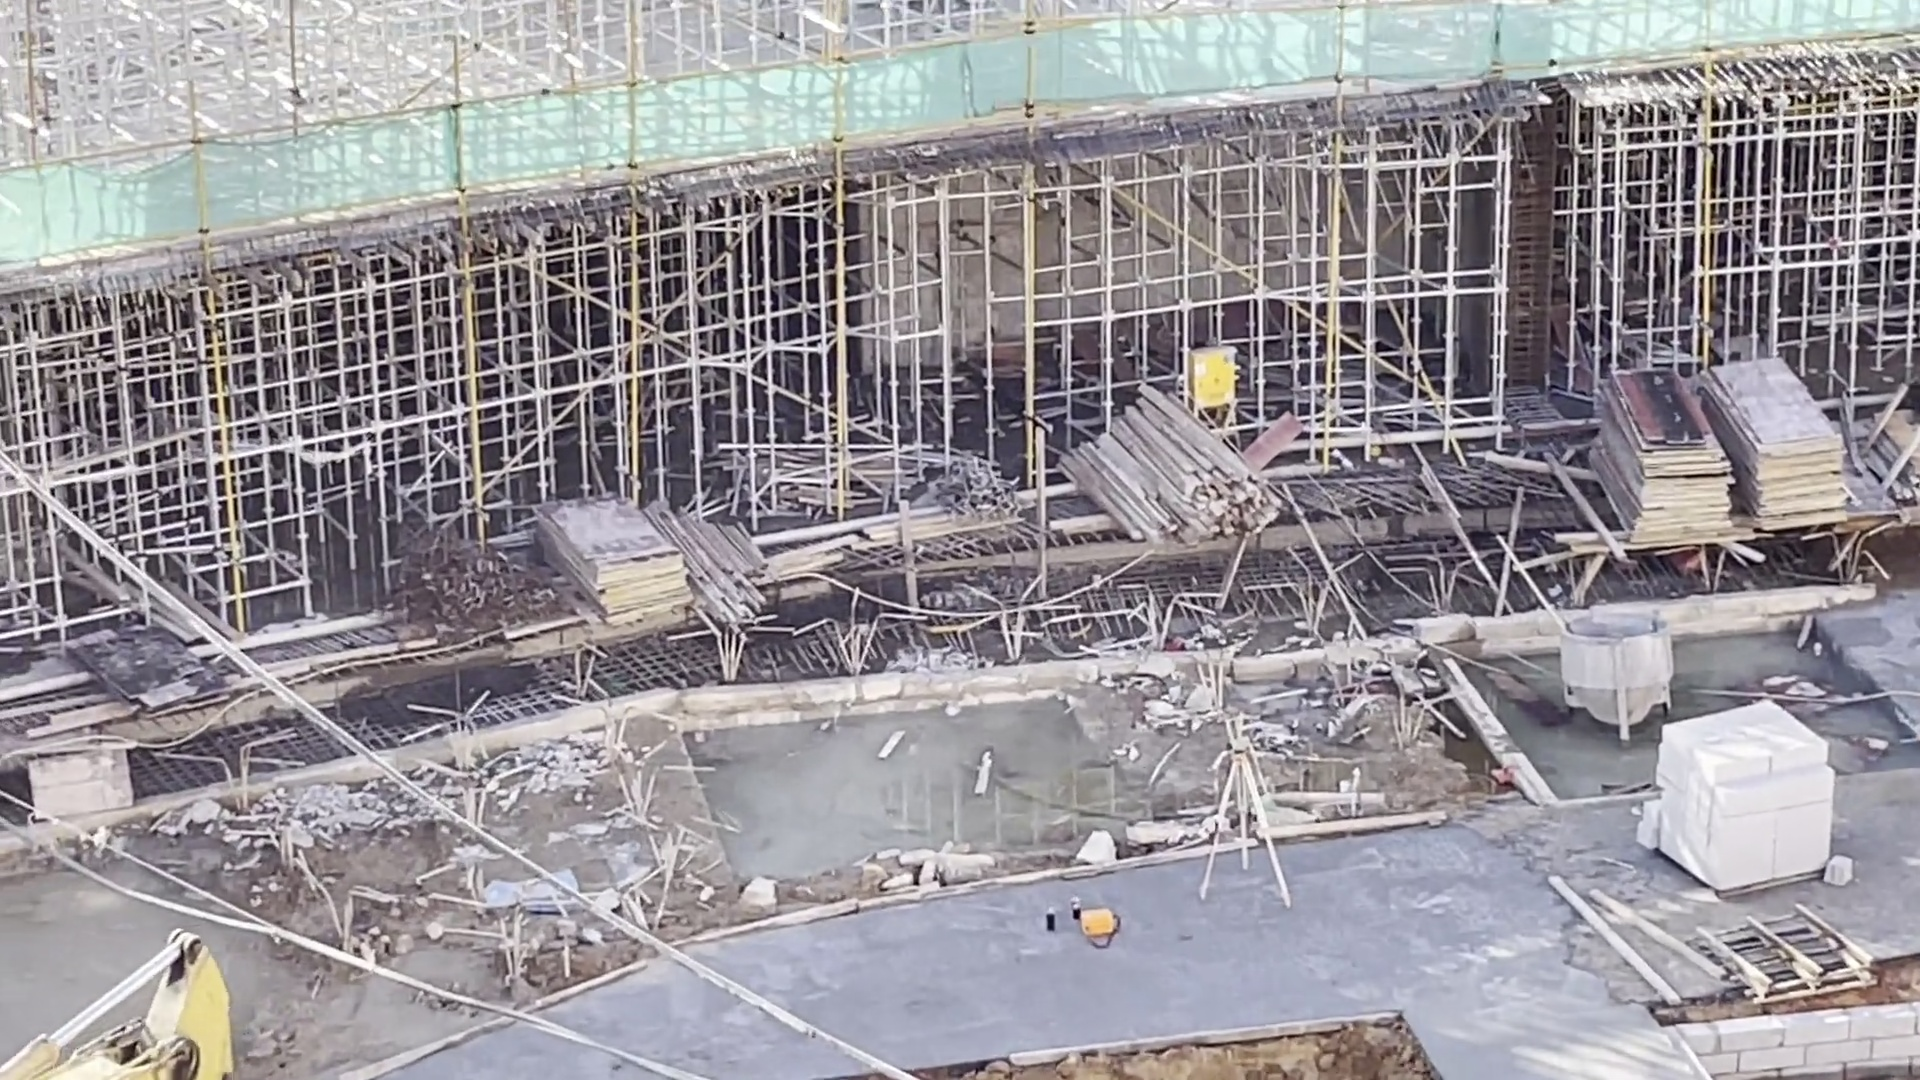board: (1582, 367, 1738, 542), (1716, 349, 1855, 531), (538, 483, 698, 628)
brick: (1647, 698, 1836, 894)
ebox: (1191, 342, 1240, 411)
hopper: (1551, 609, 1676, 742)
wood: (1062, 382, 1286, 543), (692, 509, 771, 626)
